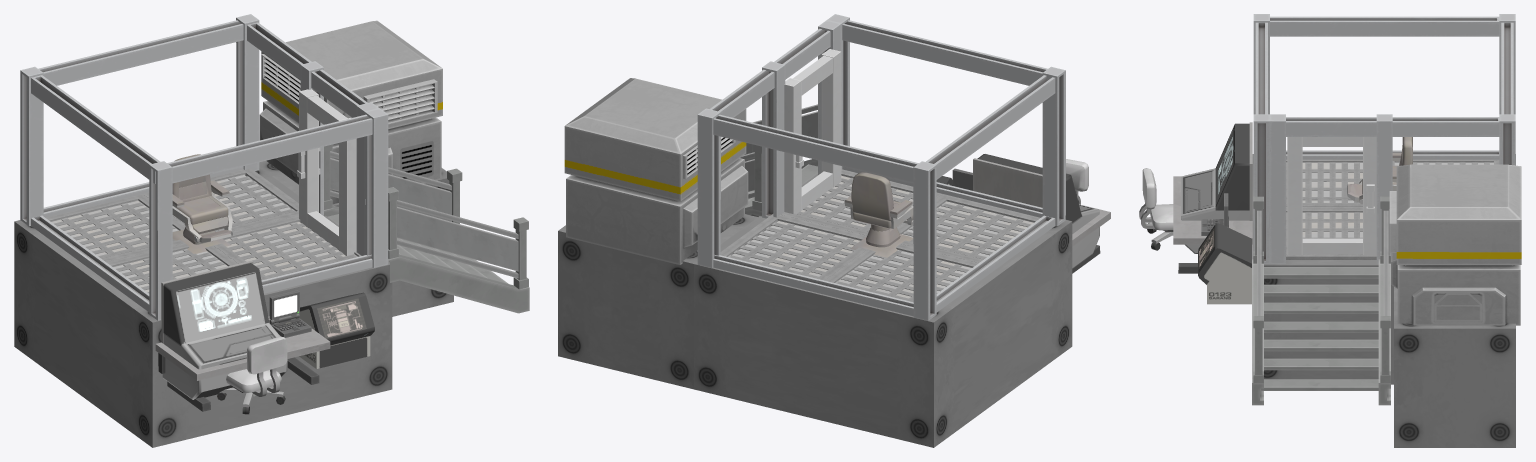
Rendered from Pfb_ObservationDeck_Temp__13.fbx.
The picture shows the model from 3 angles, left to right: view 1: azimuth 30°, elevation 25°; view 2: azimuth 150°, elevation 25°; view 3: azimuth 270°, elevation 25°; orthographic projection. The views are drawn at different scales.
Visible parts, largest first — view 1: Mat_SteelFrame_01, MAT_ScalableMesh_01, Mat_Ventilation_Soda, Mat_Stairs_Soda, Mat_Network_01_2, MAT_Soda_Instruments_Grey 6, Mat_TS_Metall 2, Mat_Tile_Color_01 7, MAT_Soda_Instruments_Grey 7, Mat_Tile_Color_07 2, Mat_Table_01, Mat_Chair_01 (+2 smaller); view 2: MAT_ScalableMesh_01, Mat_SteelFrame_01, Mat_Ventilation_Soda, Mat_Network_01_2, Mat_TS_Metall 2, Mat_Tile_Color_01 7, Mat_Tile_Color_07 2, Mat_CementMold_1, Mat_Stairs_Soda, MAT_Soda_Instruments_Grey 6, Mat_Table_01, Mat_Chair_01; view 3: MAT_ScalableMesh_01, Mat_Ventilation_Soda, Mat_SteelFrame_01, Mat_Stairs_Soda, Mat_TS_Metall 2, Mat_Network_01_2, MAT_Soda_Instruments_Grey 6, MAT_Soda_Instruments_Grey 7, Mat_Tile_Color_01 7, Mat_Table_01, Mat_Chair_01, Mat_Tile_Color_07 2 (+2 smaller).
Part boxes in pixels (left/top/right/bottom): Mat_SteelFrame_01: left=20, top=14, right=388, bottom=320; MAT_ScalableMesh_01: left=14, top=161, right=453, bottom=447; Mat_Ventilation_Soda: left=259, top=20, right=442, bottom=204; Mat_Stairs_Soda: left=324, top=144, right=529, bottom=313; Mat_Network_01_2: left=38, top=168, right=361, bottom=301; MAT_Soda_Instruments_Grey 6: left=162, top=263, right=287, bottom=399; Mat_TS_Metall 2: left=299, top=89, right=356, bottom=255; Mat_Tile_Color_01 7: left=51, top=175, right=345, bottom=292; MAT_Soda_Instruments_Grey 7: left=299, top=292, right=374, bottom=368; Mat_Tile_Color_07 2: left=172, top=154, right=231, bottom=253; Mat_Table_01: left=155, top=316, right=330, bottom=411; Mat_Chair_01: left=217, top=336, right=287, bottom=414; MAT_ScalableMesh_01: left=558, top=173, right=1072, bottom=447; Mat_SteelFrame_01: left=697, top=14, right=1065, bottom=320; Mat_Ventilation_Soda: left=564, top=78, right=748, bottom=264; Mat_Network_01_2: left=720, top=169, right=1047, bottom=302; Mat_TS_Metall 2: left=784, top=49, right=841, bottom=213; Mat_Tile_Color_01 7: left=732, top=175, right=1033, bottom=298; Mat_Tile_Color_07 2: left=844, top=172, right=913, bottom=257; Mat_CementMold_1: left=973, top=158, right=1042, bottom=207; Mat_Stairs_Soda: left=740, top=104, right=817, bottom=216; MAT_Soda_Instruments_Grey 6: left=977, top=154, right=1099, bottom=268; Mat_Table_01: left=1072, top=204, right=1110, bottom=273; Mat_Chair_01: left=1066, top=159, right=1088, bottom=204; MAT_ScalableMesh_01: left=1252, top=154, right=1515, bottom=447; Mat_Ventilation_Soda: left=1389, top=164, right=1521, bottom=325; Mat_SteelFrame_01: left=1253, top=14, right=1515, bottom=263; Mat_Stairs_Soda: left=1252, top=196, right=1390, bottom=405; Mat_TS_Metall 2: left=1287, top=137, right=1376, bottom=254; Mat_Network_01_2: left=1286, top=159, right=1499, bottom=259; MAT_Soda_Instruments_Grey 6: left=1181, top=123, right=1249, bottom=253; MAT_Soda_Instruments_Grey 7: left=1198, top=223, right=1251, bottom=304; Mat_Tile_Color_01 7: left=1302, top=162, right=1493, bottom=237; Mat_Table_01: left=1173, top=176, right=1252, bottom=273; Mat_Chair_01: left=1139, top=168, right=1173, bottom=250; Mat_Tile_Color_07 2: left=1348, top=137, right=1412, bottom=197.
Bounding box in the file's own units: 6.29 × 4.39 × 5.81.
Materials: 16 (16 with a texture image).
